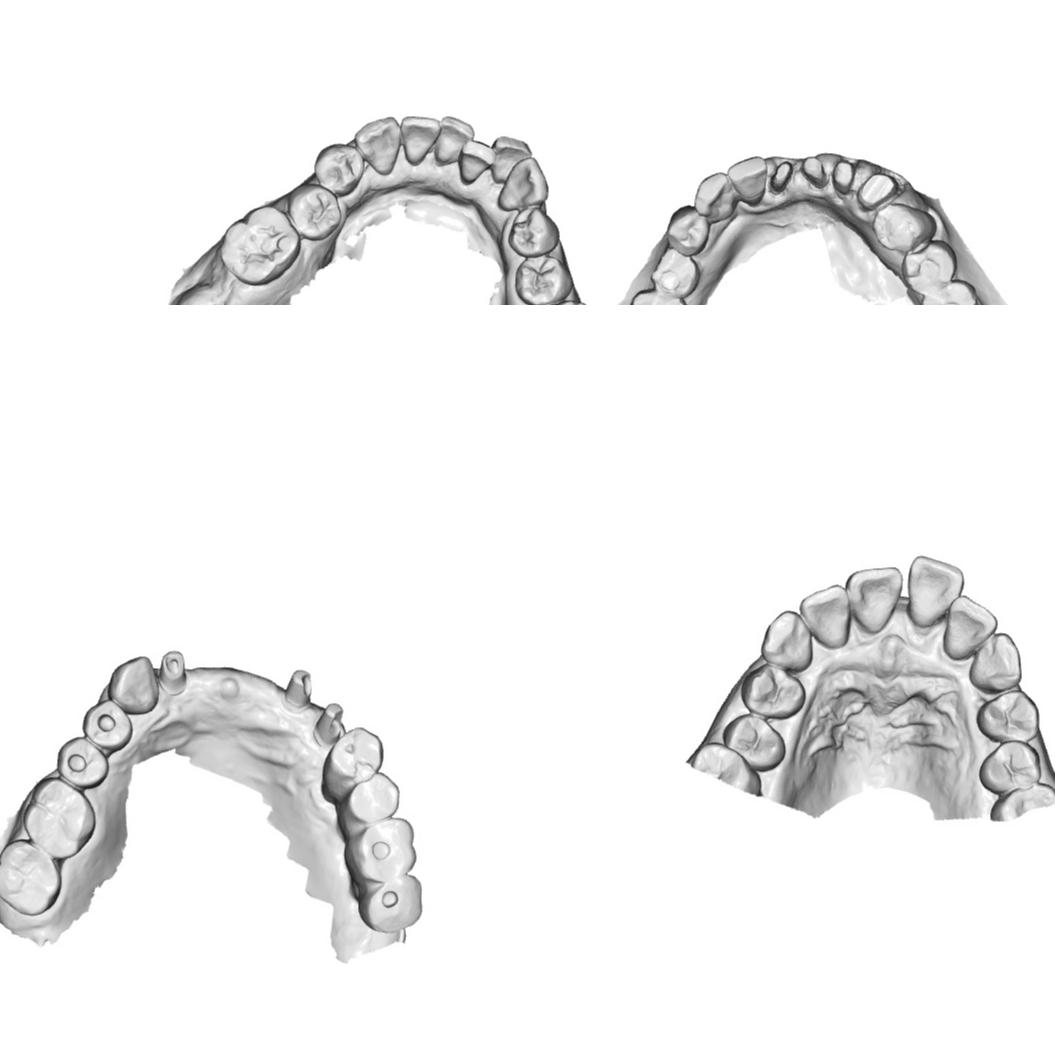abutment: (311, 701, 345, 752), (282, 666, 316, 712), (156, 648, 188, 696)
canine: (759, 608, 813, 674), (966, 631, 1022, 694), (494, 154, 552, 212), (106, 654, 160, 716), (352, 114, 404, 176), (691, 170, 739, 228)
crown: (854, 169, 900, 211), (827, 157, 859, 199), (770, 155, 799, 198), (801, 155, 833, 193)
incisor: (906, 551, 966, 630), (844, 565, 903, 635), (941, 592, 999, 662), (798, 583, 853, 650), (488, 132, 534, 187), (395, 113, 442, 166), (726, 152, 770, 208), (433, 115, 477, 169), (457, 134, 497, 187)
molar: (217, 203, 303, 288), (22, 775, 97, 861), (0, 837, 63, 917), (344, 816, 418, 882), (357, 874, 423, 934), (919, 278, 984, 305), (619, 287, 690, 305)
premolar: (319, 725, 384, 803), (720, 712, 788, 773), (739, 661, 808, 721), (283, 180, 345, 243), (976, 738, 1043, 796), (975, 687, 1042, 744), (869, 202, 938, 256), (337, 771, 400, 830), (513, 252, 577, 305), (309, 140, 366, 199), (899, 242, 957, 298), (506, 203, 561, 258), (56, 735, 109, 789), (648, 246, 700, 301), (81, 699, 134, 752), (664, 202, 711, 257)
